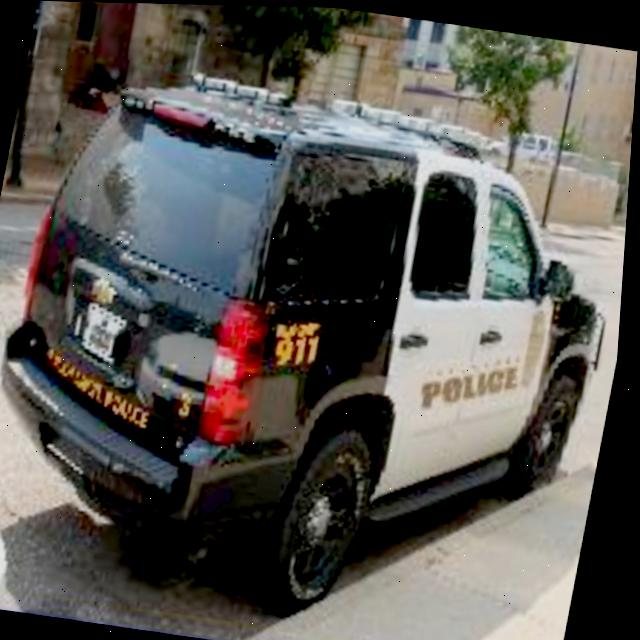emergency: (0, 30, 638, 640)
